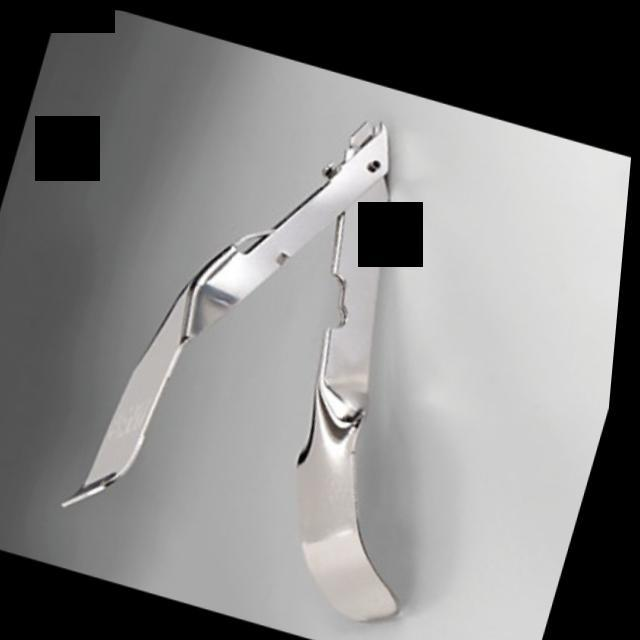Stapler Remover: (34, 42, 542, 638)
